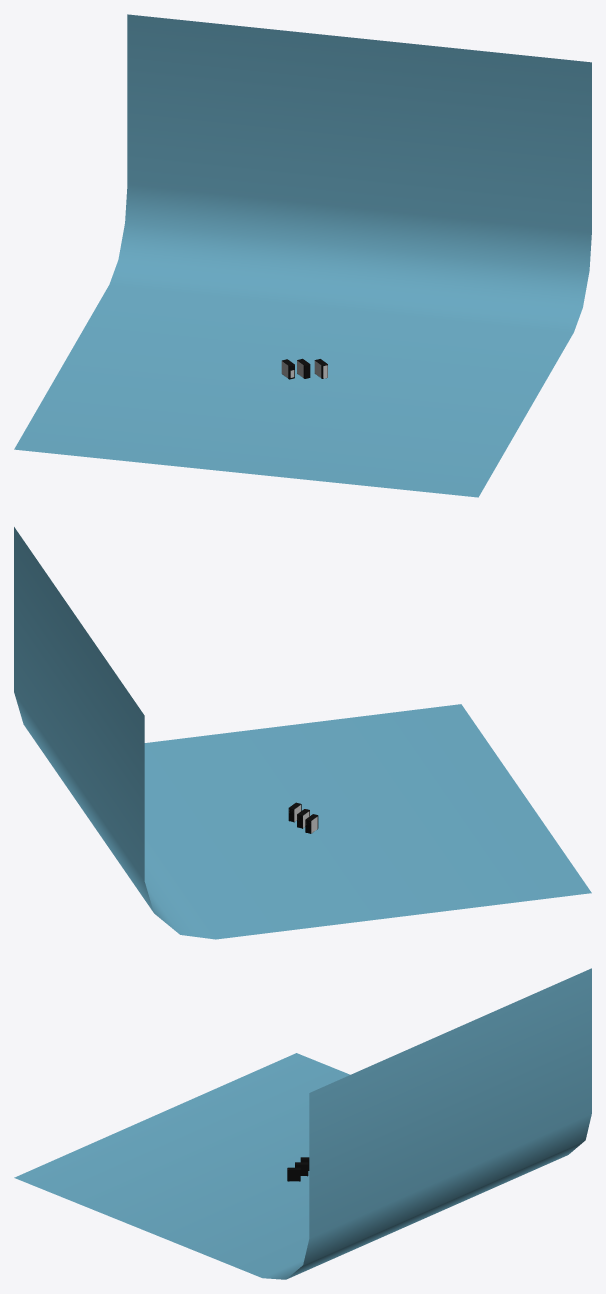
Rendered from uploads_files_2436950_LowPoly+PC.obj.
The picture shows the model from 3 angles, top to bottom: view 1: azimuth 30°, elevation 25°; view 2: azimuth 150°, elevation 25°; view 3: azimuth 270°, elevation 25°; orthographic projection. The views are drawn at different scales.
Parts seen in each view (by area): view 1: Plane; view 2: Plane; view 3: Plane.
Part boxes in pixels (bbox=[...]): Plane: bbox=[14, 14, 591, 497]; Plane: bbox=[14, 527, 591, 939]; Plane: bbox=[14, 968, 591, 1279].
Bounding box in the file's own units: 20.82 × 8.12 × 20.82.
